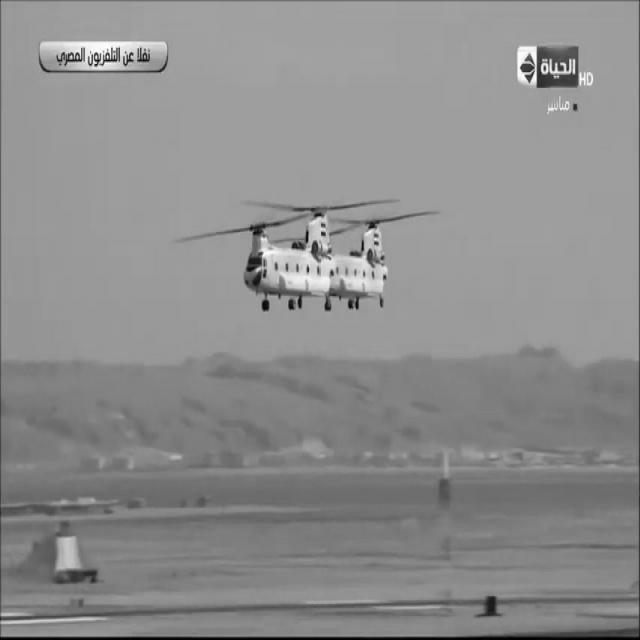helikopter: (219, 204, 404, 324)
